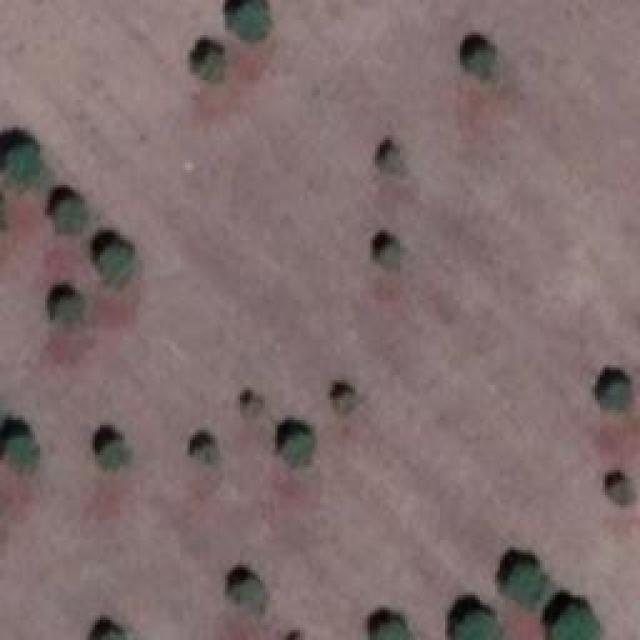Tree: (227, 0, 275, 48), (2, 427, 40, 475), (505, 560, 545, 605), (0, 143, 40, 186), (50, 193, 85, 238), (98, 240, 133, 285), (455, 607, 502, 640), (555, 602, 595, 640), (600, 375, 633, 413), (200, 47, 230, 85), (468, 45, 498, 83), (100, 440, 135, 470), (283, 433, 313, 468), (367, 620, 415, 640), (55, 290, 83, 323), (233, 580, 266, 608), (610, 478, 638, 511), (380, 243, 405, 278), (385, 147, 408, 175), (195, 440, 220, 465), (333, 390, 358, 415), (245, 395, 265, 420)
